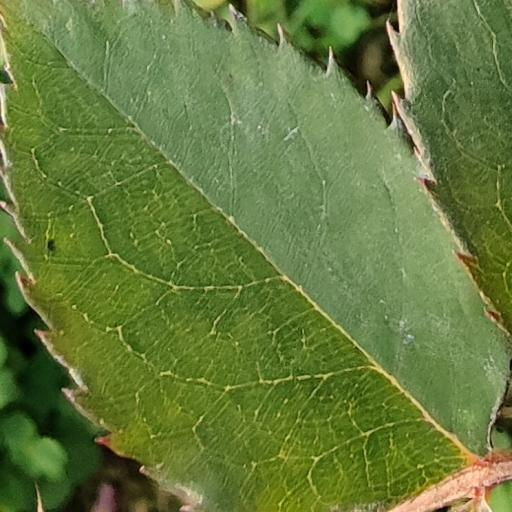healthy_leaf: (0, 0, 511, 511), (389, 0, 511, 335)
